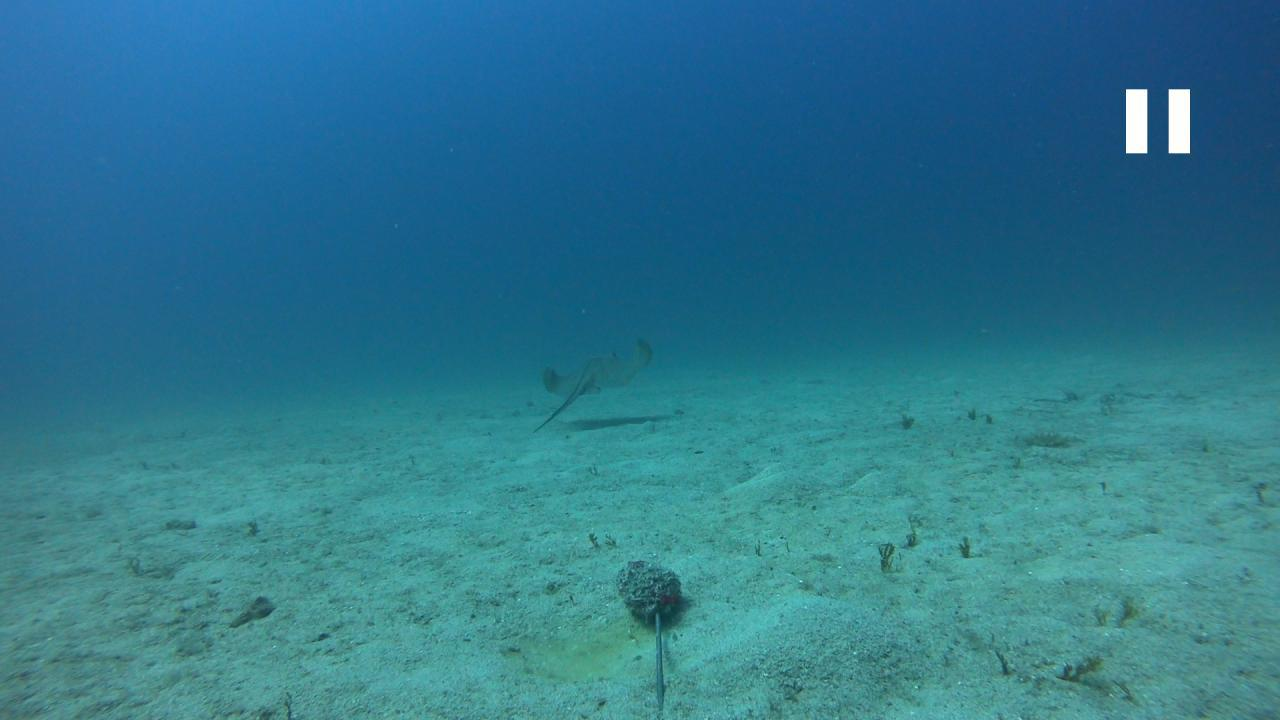dasyatis: (527, 334, 656, 432)
